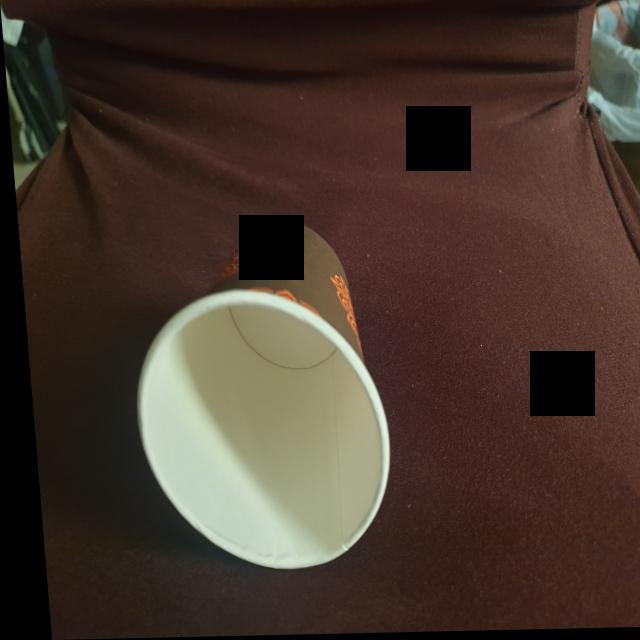cups: (109, 215, 400, 585)
